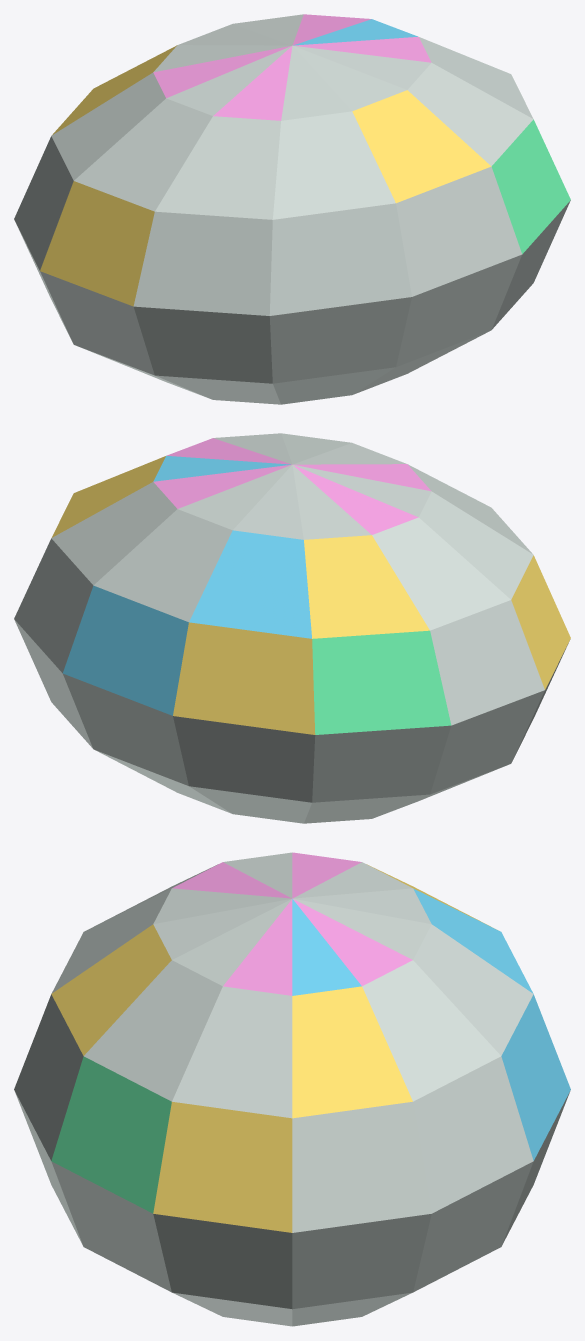
Rendered from Opal.glb.
3 renders of one model, top to bottom at view 1: azimuth 30°, elevation 25°; view 2: azimuth 150°, elevation 25°; view 3: azimuth 270°, elevation 25°, orthographic. The views are drawn at different scales.
Parts seen in each view (by area): view 1: Opal_gem; view 2: Opal_gem; view 3: Opal_gem.
Boxes of the visible parts, <box> form: Opal_gem: <box>14,14,570,404</box>; Opal_gem: <box>14,433,570,823</box>; Opal_gem: <box>14,852,570,1326</box>.
Size of the model in its own units: 0.96 by 0.5952 by 0.7872.
